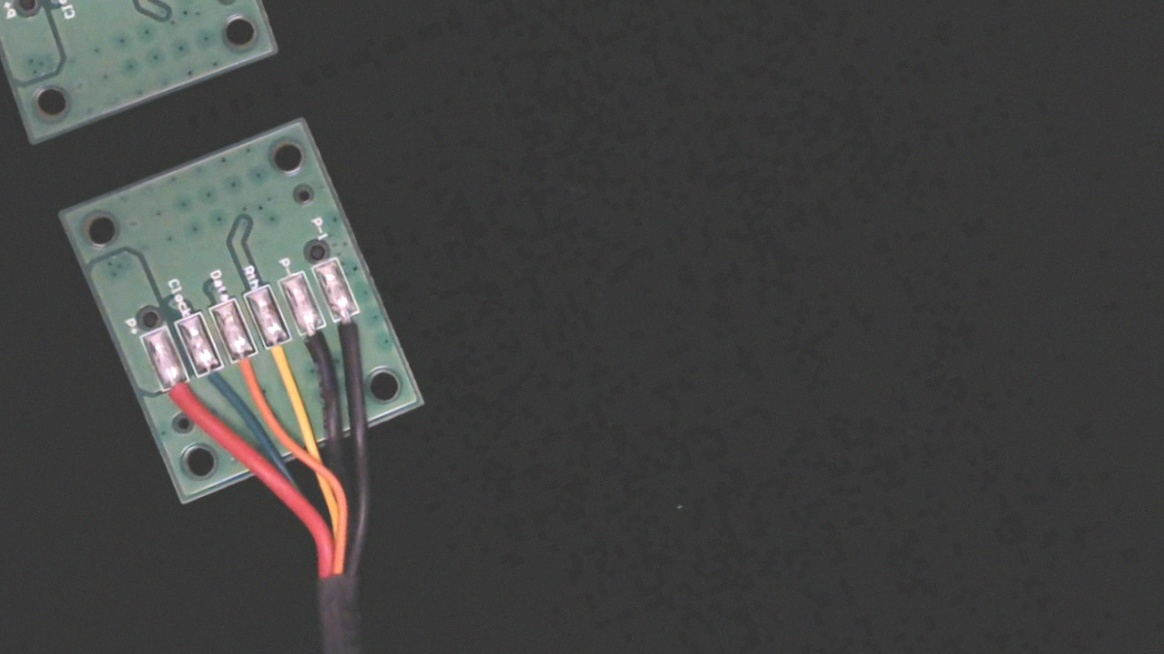Black: (292, 311, 343, 377)
Black1: (327, 297, 378, 367)
Green: (190, 351, 239, 413)
Orange: (225, 340, 275, 405)
Red: (156, 367, 210, 440)
Yellow: (257, 325, 307, 392)
